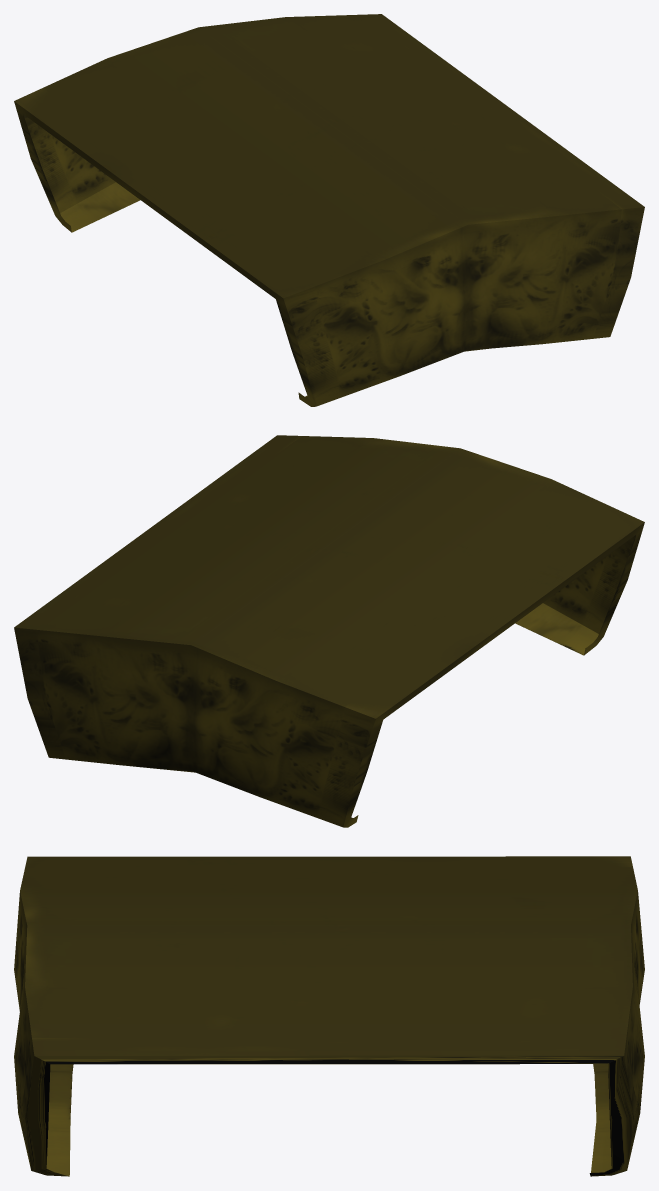
Rendered from archPlate.fbx.
3 renders of one model, top to bottom at view 1: azimuth 30°, elevation 25°; view 2: azimuth 150°, elevation 25°; view 3: azimuth 270°, elevation 25°, orthographic. The views are drawn at different scales.
Visible parts, largest first — view 1: archPlate; view 2: archPlate; view 3: archPlate.
Part boxes in pixels (box(x1,y1,x2,y2)): archPlate: box(14, 14, 644, 406); archPlate: box(14, 435, 644, 827); archPlate: box(14, 856, 644, 1176).
Bounding box in the file's own units: 176 × 71.05 × 233.
